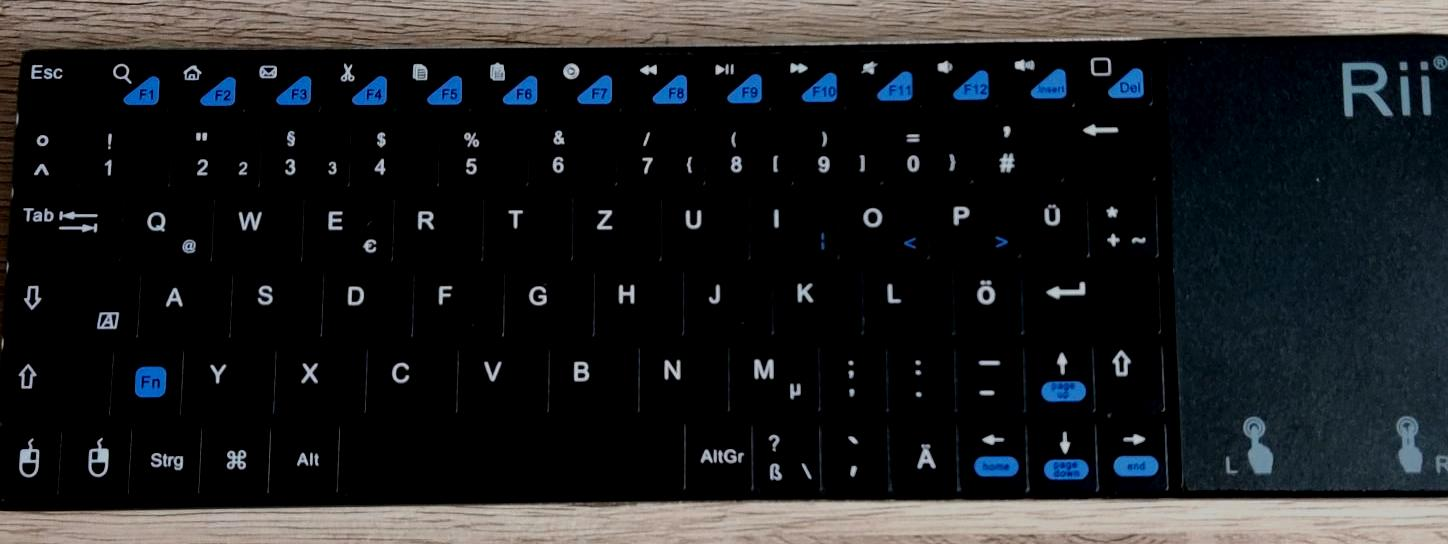0: (885, 110, 971, 184)
1: (82, 117, 170, 189)
2: (174, 116, 261, 189)
3: (262, 115, 350, 188)
4: (353, 114, 438, 188)
5: (440, 114, 526, 187)
6: (531, 114, 616, 187)
7: (619, 113, 704, 187)
8: (707, 112, 791, 186)
9: (795, 111, 882, 186)
a: (142, 264, 230, 340)
accent: (824, 414, 888, 494)
ae: (892, 421, 957, 495)
alt-left: (273, 417, 339, 494)
altgr-right: (689, 415, 753, 496)
b: (550, 338, 638, 414)
c: (367, 337, 458, 415)
caret: (12, 118, 79, 189)
comma: (821, 335, 885, 411)
d: (324, 263, 412, 338)
del: (1067, 106, 1155, 181)
e: (304, 188, 394, 264)
enter: (1027, 257, 1160, 334)
f: (416, 263, 500, 337)
g: (504, 262, 592, 337)
h: (596, 261, 681, 336)
hash: (975, 108, 1062, 183)
i: (752, 185, 836, 258)
j: (685, 261, 770, 335)
k: (773, 259, 860, 336)
keyboard: (1, 33, 1448, 513)
l: (865, 259, 951, 335)
m: (729, 334, 817, 413)
minus: (958, 335, 1024, 413)
n: (639, 336, 727, 413)
o: (838, 185, 927, 259)
oe: (956, 259, 1022, 335)
p: (930, 182, 1019, 258)
plus: (1091, 182, 1157, 259)
point: (890, 336, 952, 410)
q: (122, 189, 214, 265)
r: (394, 189, 483, 263)
s: (232, 264, 322, 339)
shift-left: (1, 343, 110, 417)
shift-lock: (3, 266, 140, 342)
shift-right: (1099, 339, 1165, 417)
space: (345, 415, 683, 494)
ss: (754, 414, 818, 497)
strg-left: (132, 417, 200, 495)
t: (485, 188, 570, 260)
tab: (7, 190, 123, 264)
u: (662, 186, 748, 261)
ue: (1022, 181, 1087, 257)
v: (459, 337, 548, 414)
w: (214, 187, 301, 264)
x: (278, 338, 365, 415)
y: (186, 339, 274, 416)
z: (574, 188, 660, 261)
